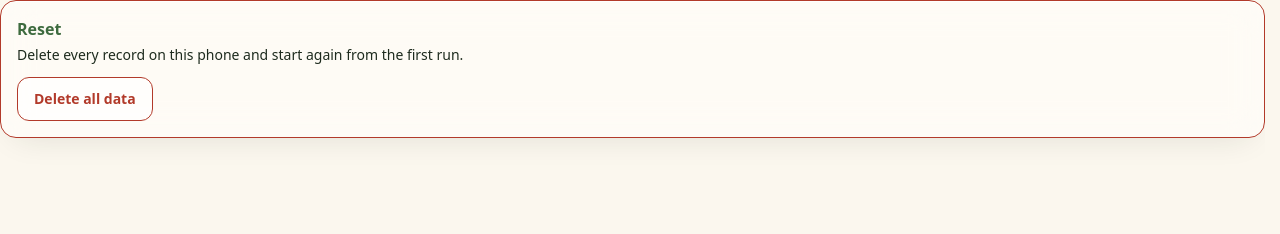
Test: the reset confirmation › deletes only after DELETE is typed exactly
The width and height of the screenshot is (1280, 234).
Later steps or results of the test are not shown.
Click the button "Delete all data": (85, 99) [17, 77, 153, 121]
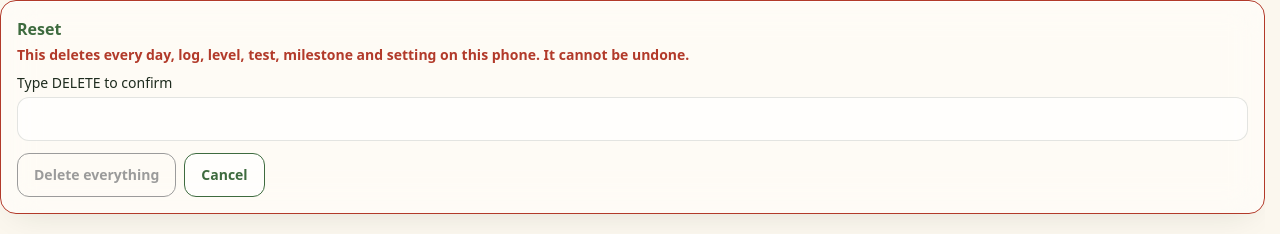
Expected: the button "Delete everything" is disabled, [17, 153, 176, 197]
In the field labelled "Type DELETE to confirm": (632, 119) [17, 97, 1248, 141], type "delete"
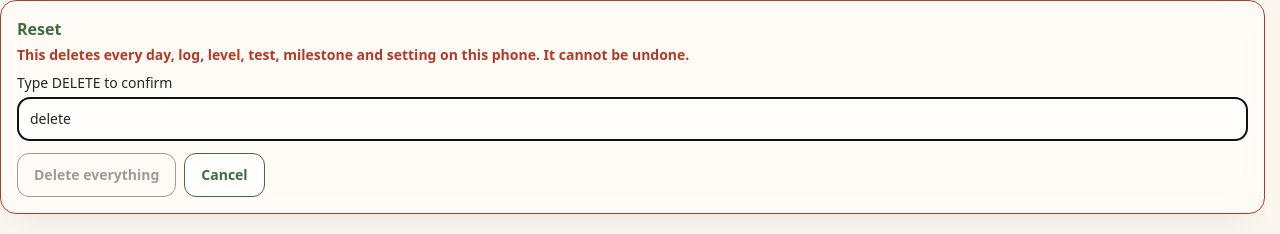
Expected: the button "Delete everything" is disabled, [17, 153, 176, 197]
Replace the text in the field labelled "Type DELETE to confirm" with "DELETE": (632, 119) [17, 97, 1248, 141]
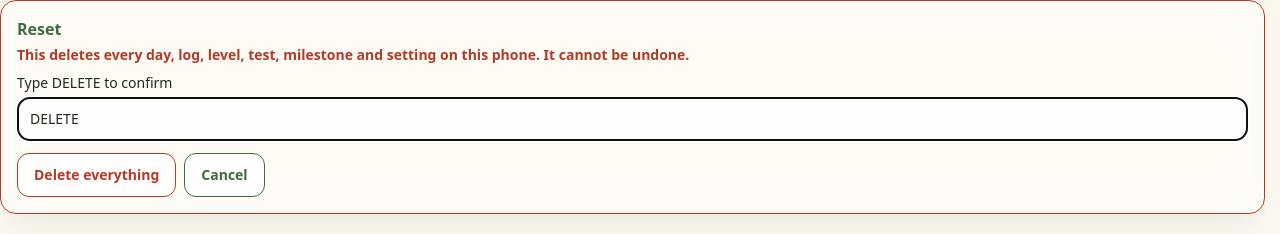
Expected: the button "Delete everything" is enabled, [17, 153, 176, 197]
